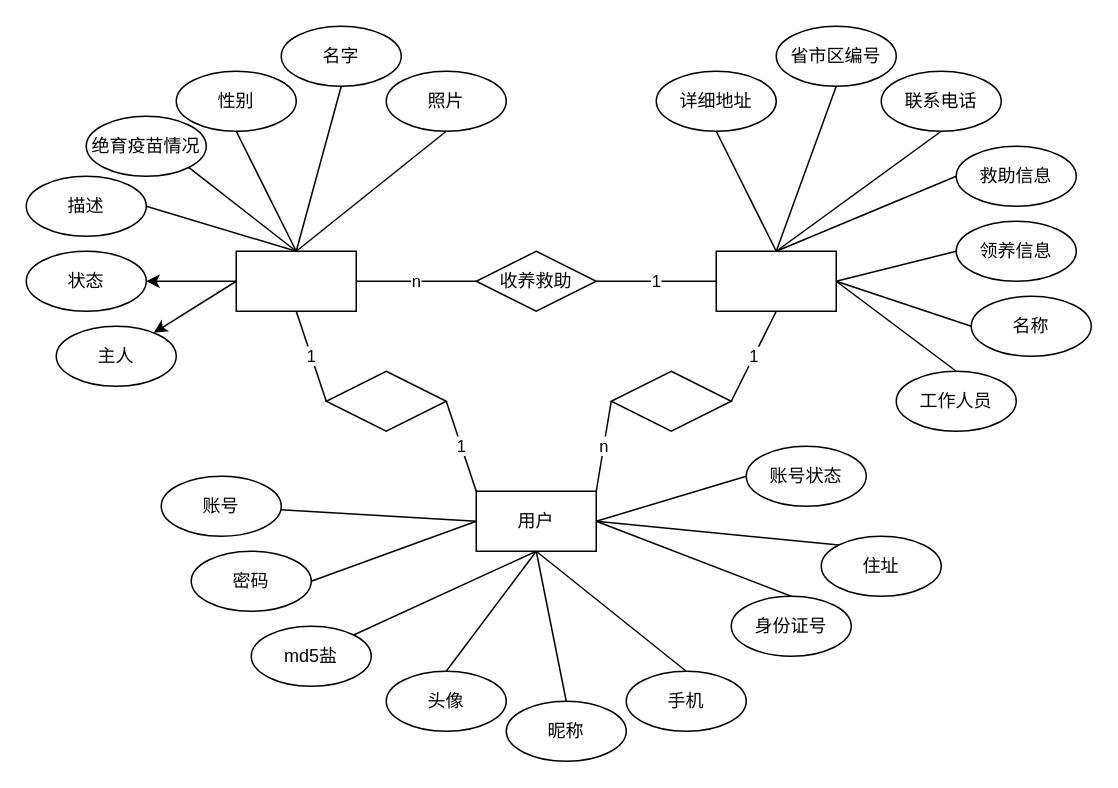
Image size: 1118x788. Some labels were removed from this diagram. Here are the shapes that lost their labels. From the top down, the centre of each, then its label:
the point at 295,280: 动物
the point at 775,280: 救助站
the point at 385,400: 领养
the point at 670,400: 注册
